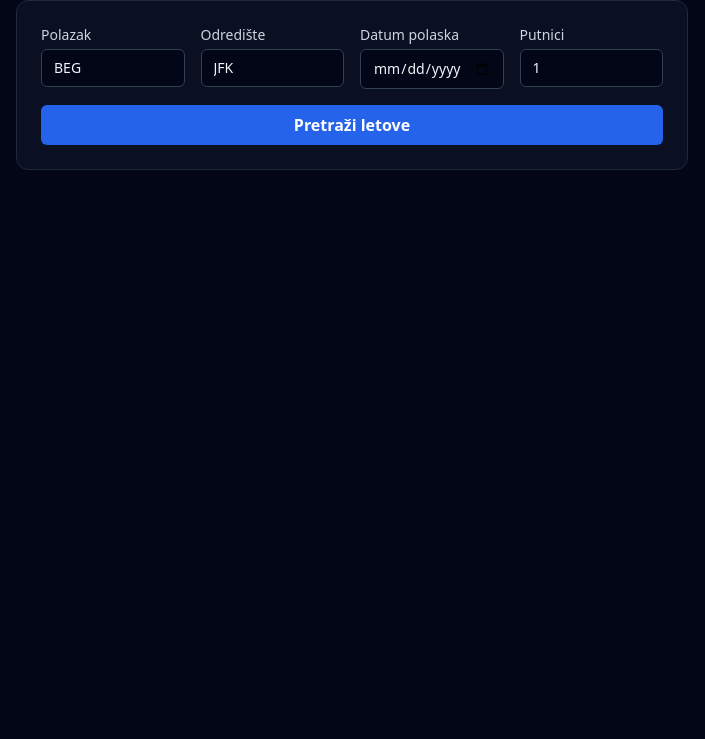
Test: SearchForm › shows the seat option only for the passenger it's scoped to, not passengers without a matching Duffel ID
This screenshot has width=705, height=739.
Replace the text in the number field labelled "Putnici" with "2" at (591, 68), box [520, 49, 663, 87]
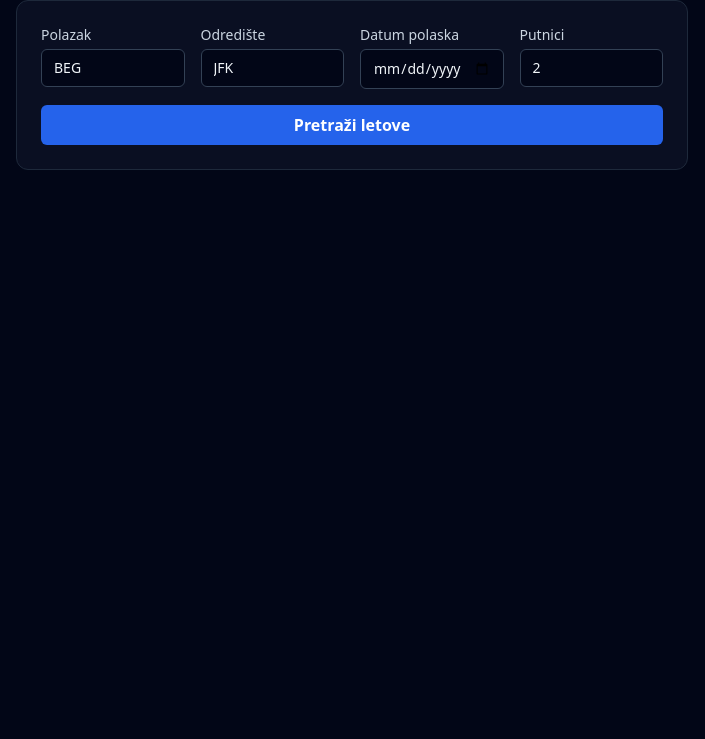
Click the button "Pretraži letove" at (352, 125), box [41, 105, 663, 145]
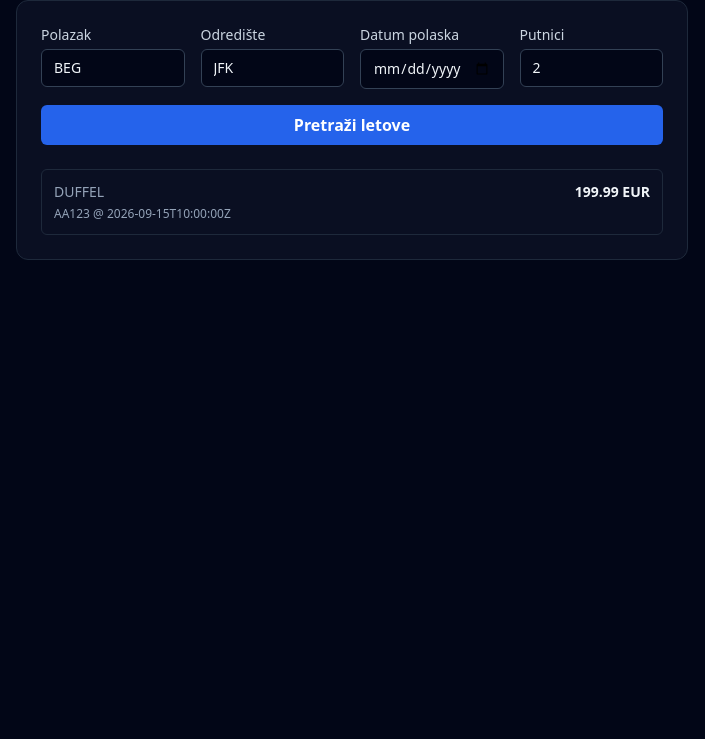
Click the list item "duffel" at (352, 202), box [41, 169, 663, 235]
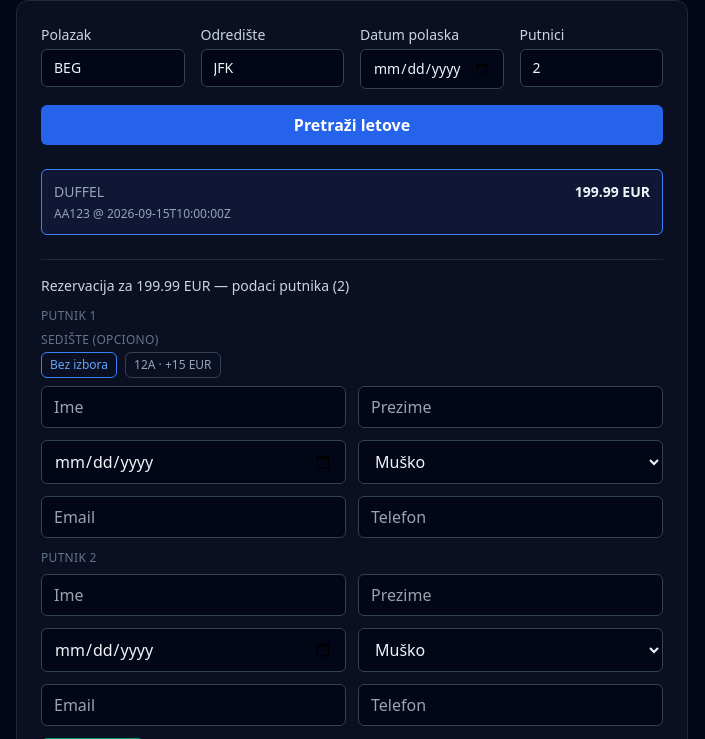
Expected: the number of fields with placeholder "Ime" is 2, [41, 386, 346, 428]; [41, 574, 346, 616]
Expected: the number of buttons "12A · +15 EUR" is 1, [125, 352, 220, 378]
